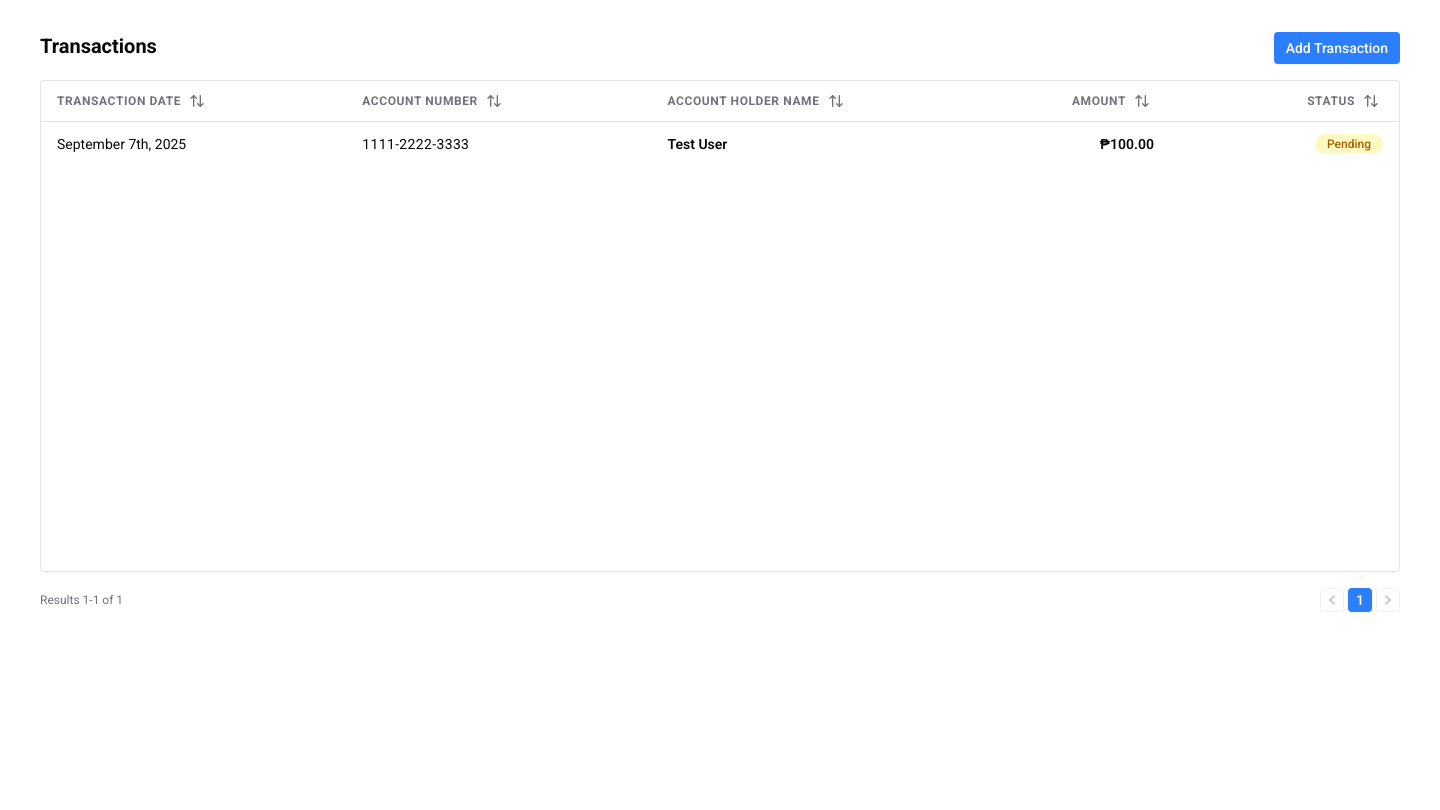
Test: Transactions page tests › should close the modal when Cancel button is clicked
Step 1. Click the button "Add Transaction" → (1337, 48), box [1274,32,1400,64]
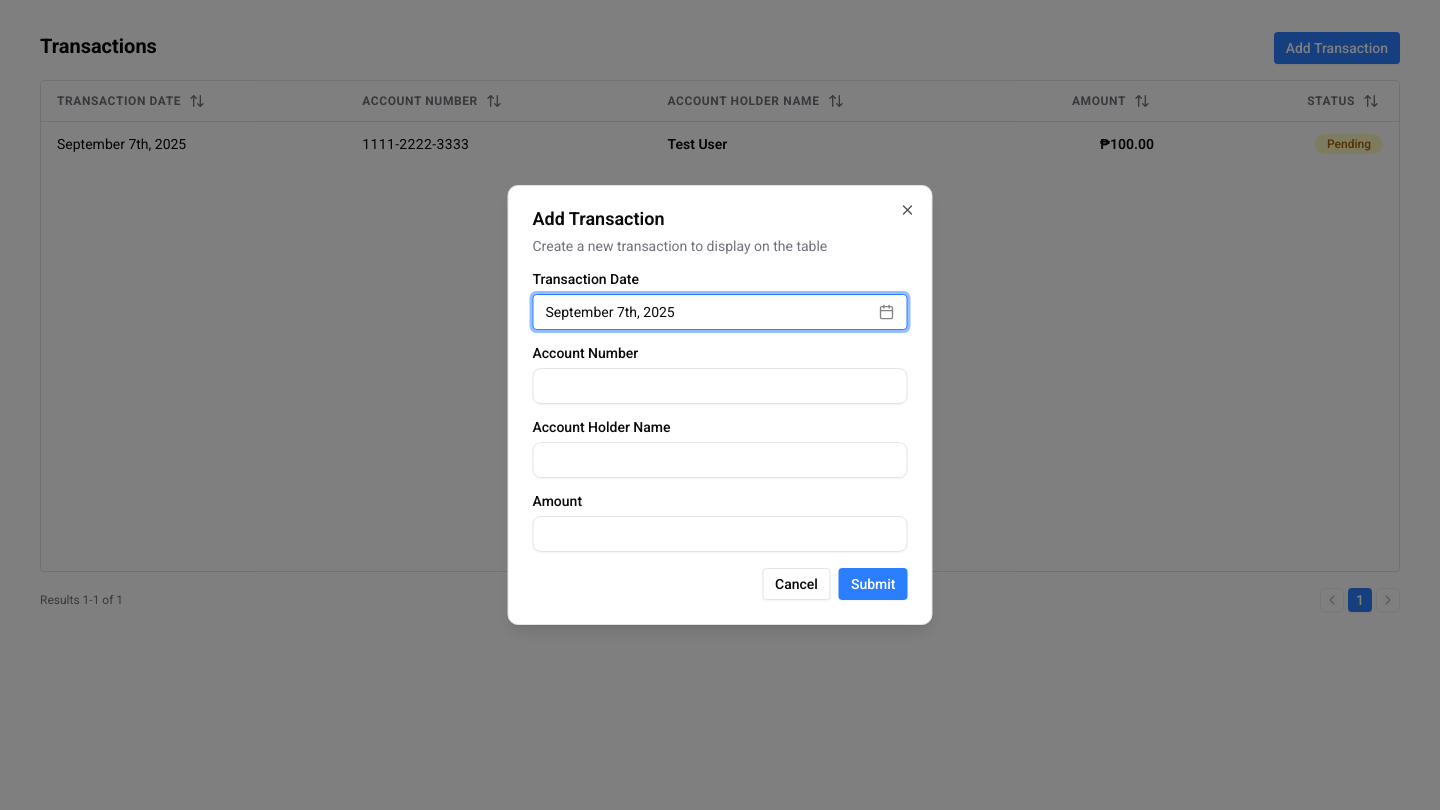
Step 2. Click the button "Cancel" → (797, 584), box [762,568,831,600]
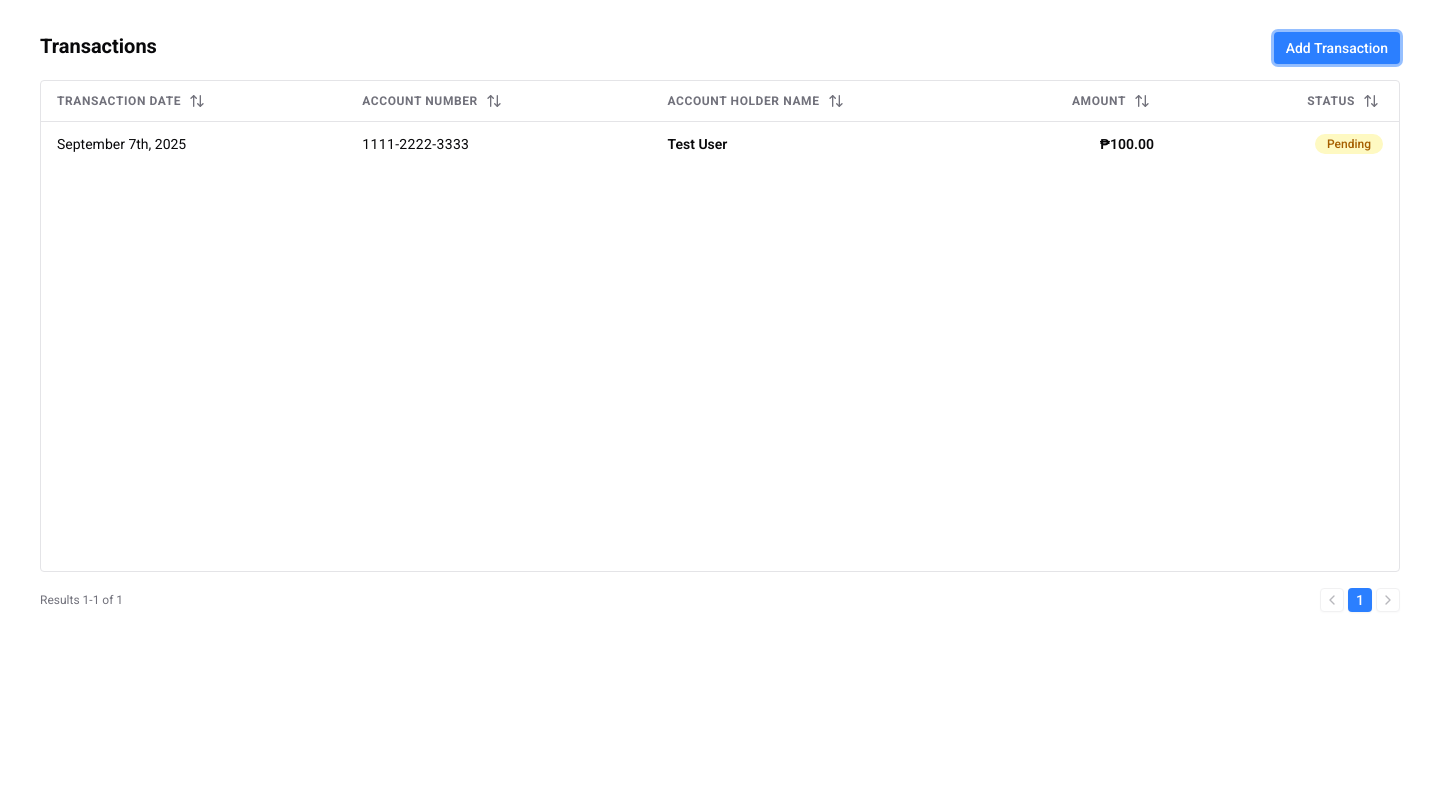
Now the text "Create a new transaction" is gone
